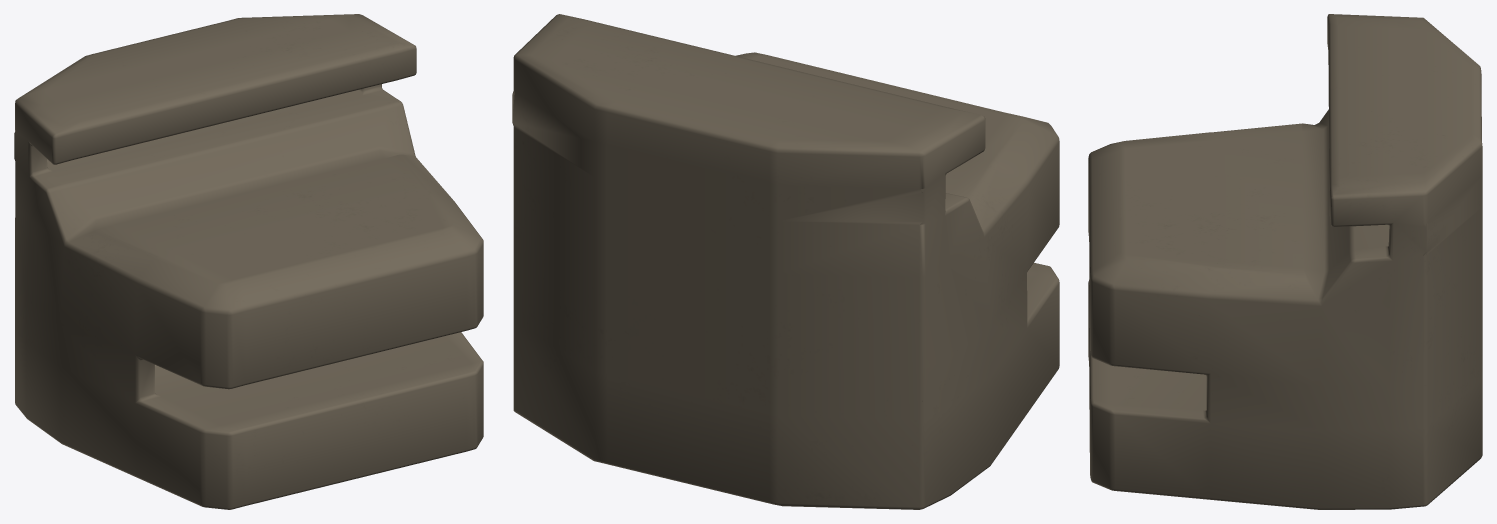
Rendered from bunker_2.fbx.
3 renders of one model, left to right at view 1: azimuth 30°, elevation 25°; view 2: azimuth 150°, elevation 25°; view 3: azimuth 270°, elevation 25°, orthographic. The views are drawn at different scales.
Parts seen in each view (by area): view 1: Bunker2; view 2: Bunker2; view 3: Bunker2.
Boxes of the visible parts, <box> form: Bunker2: <box>14,14,483,509</box>; Bunker2: <box>512,14,1059,509</box>; Bunker2: <box>1088,14,1482,509</box>.
Bounding box in the file's own units: 503 × 405 × 455.
1 material, 1 textured.
